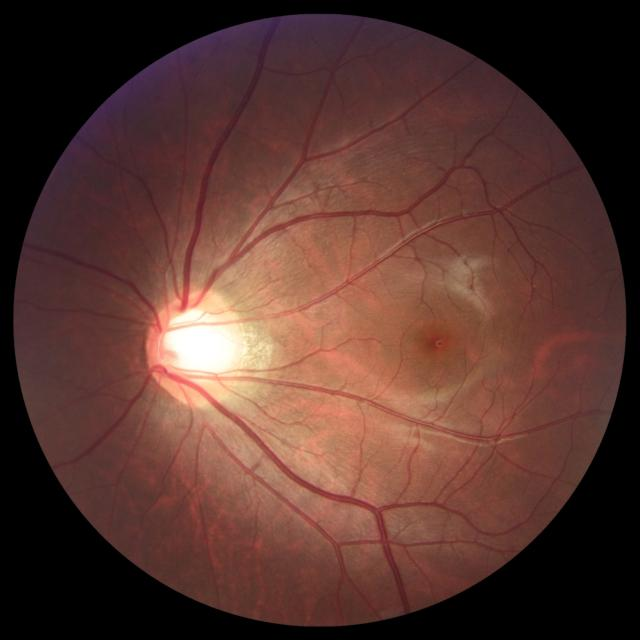OC: (163, 306, 237, 379)
OD: (148, 290, 248, 405)
